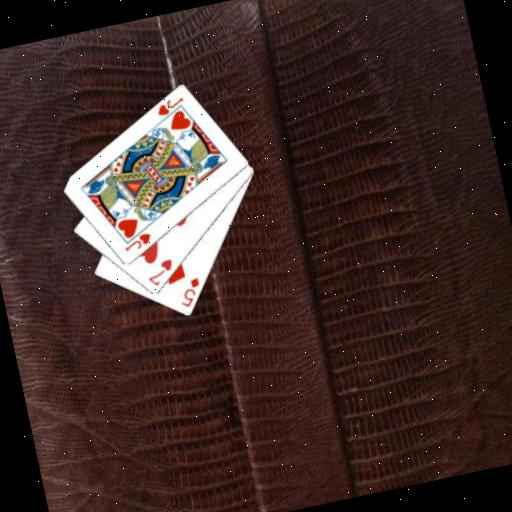5D: (173, 273, 206, 310)
7H: (141, 255, 178, 289)
JH: (119, 228, 154, 253), (152, 93, 187, 118)
